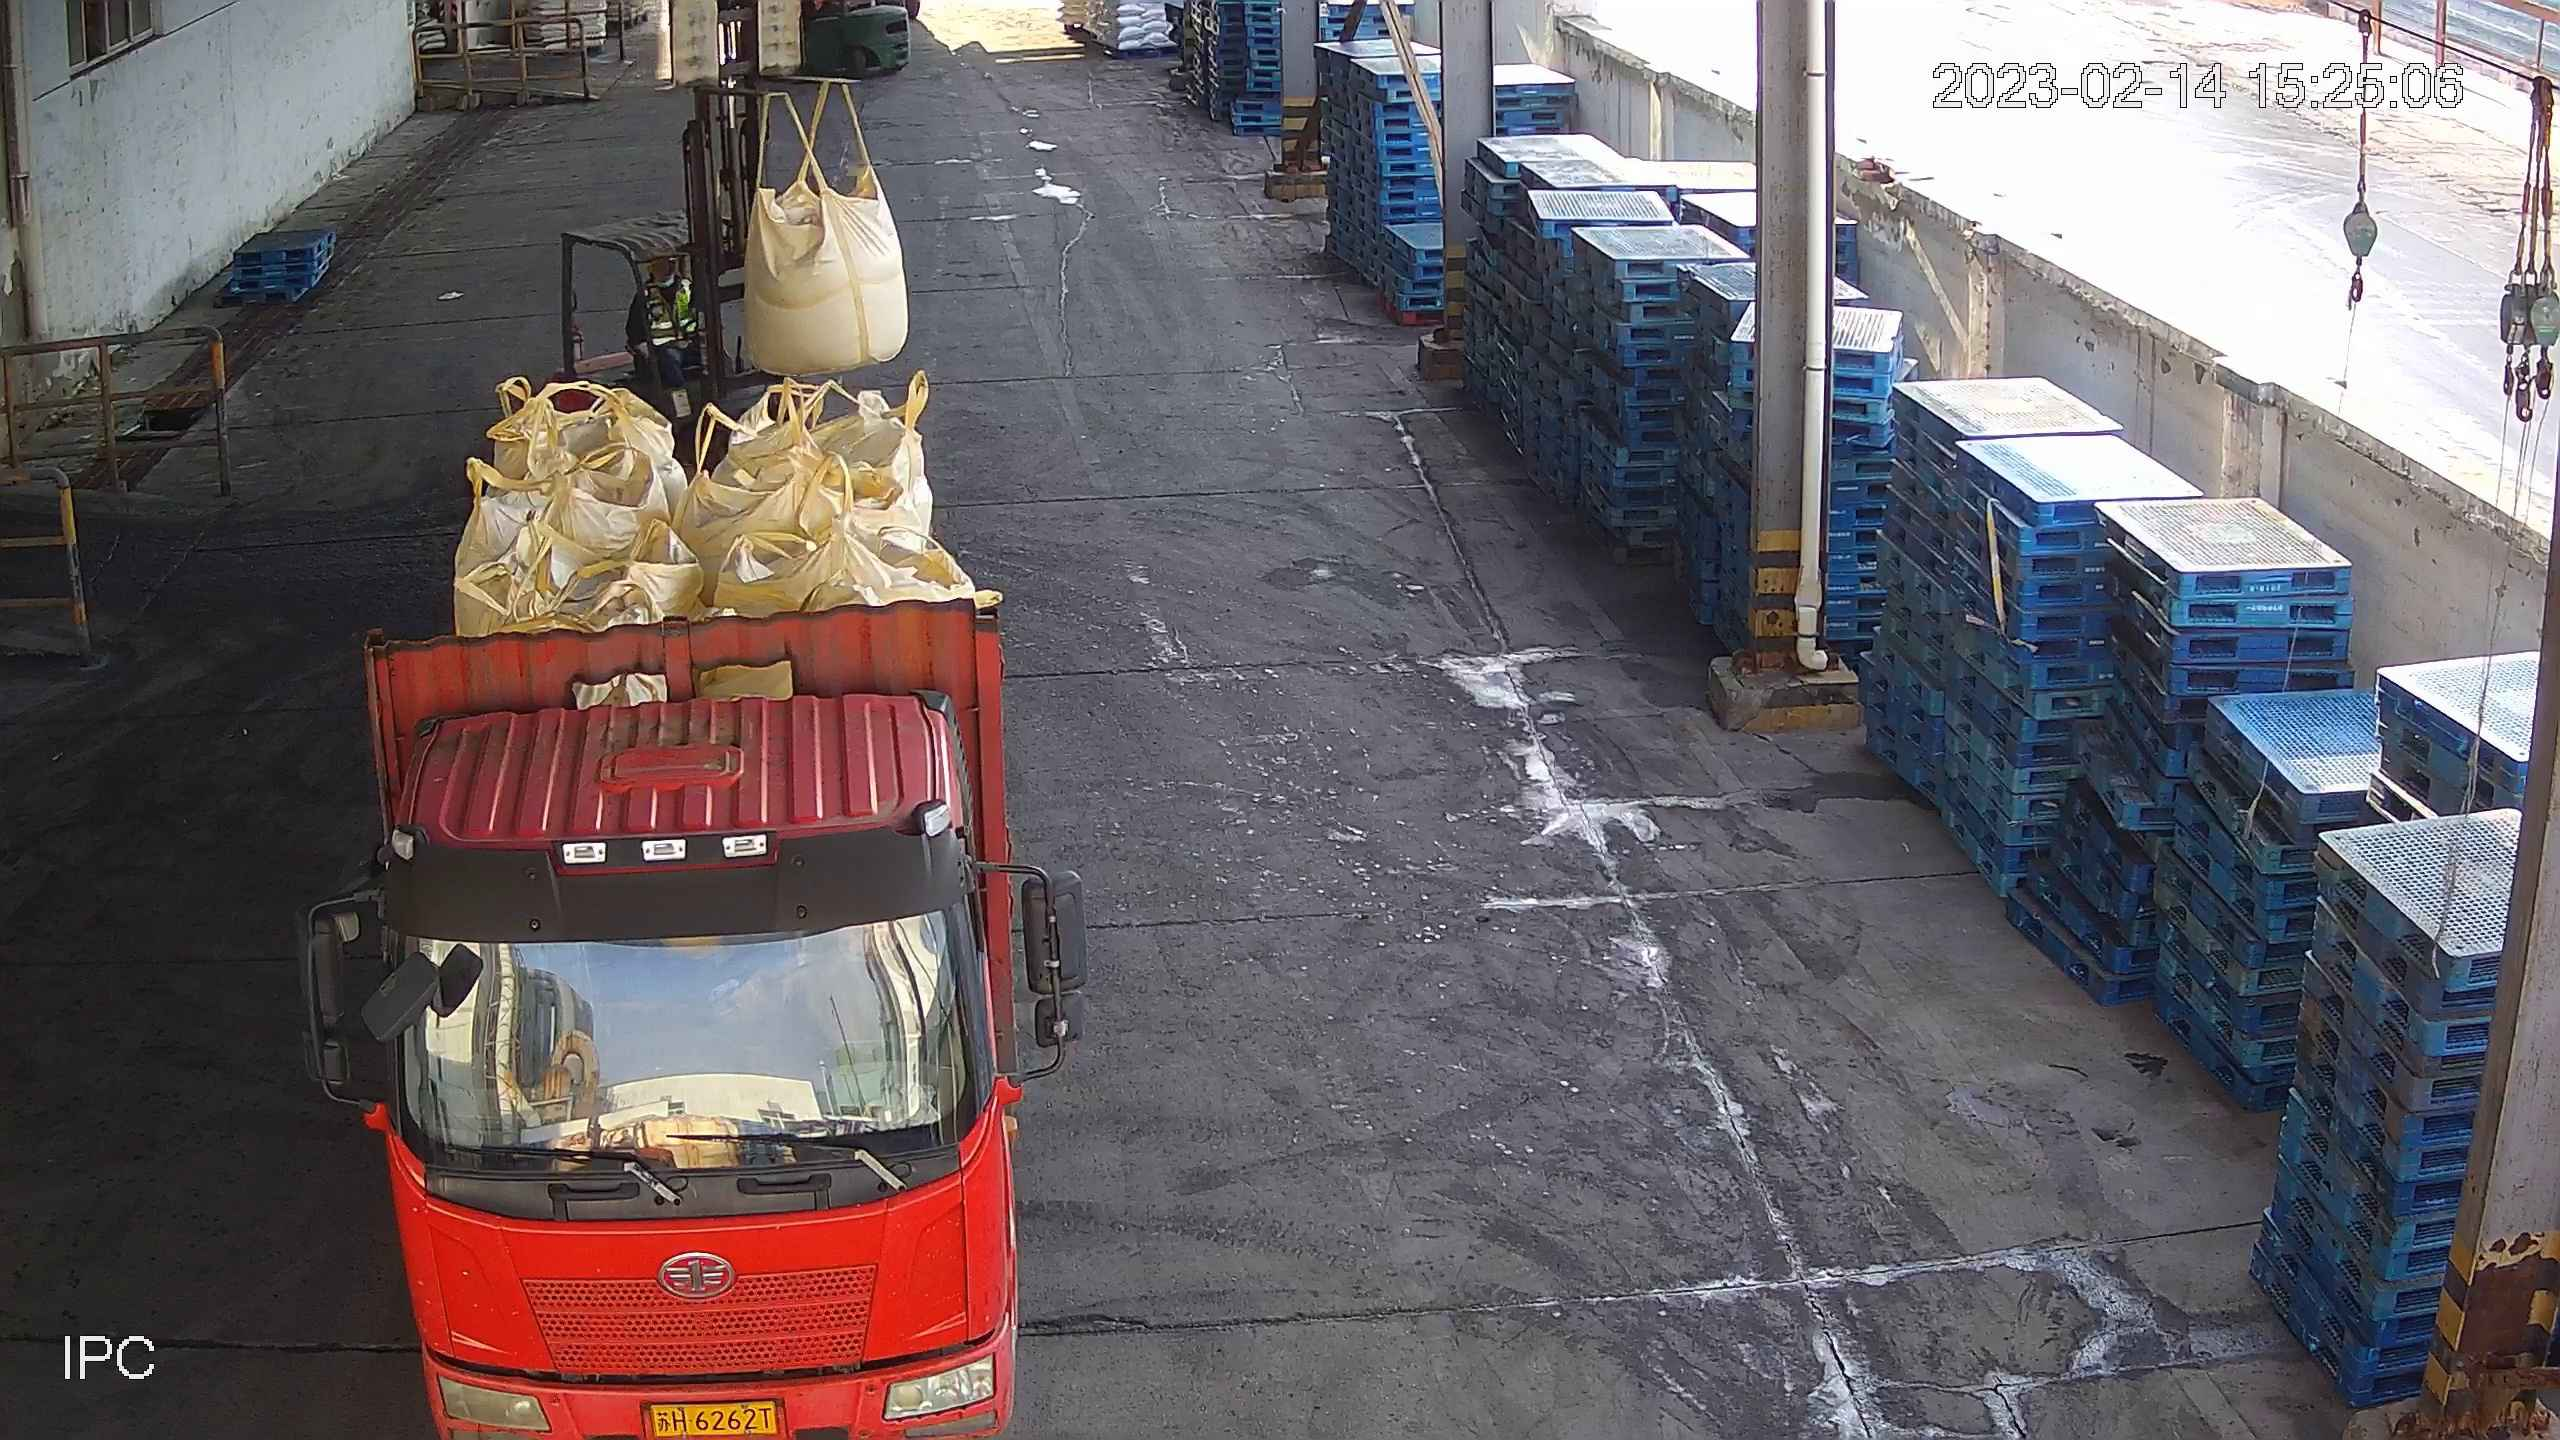truck: (308, 56, 1083, 1436)
